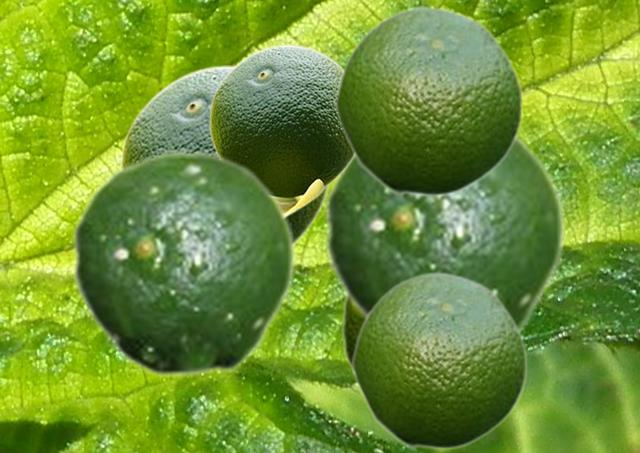calamansi: (71, 149, 296, 378), (323, 134, 566, 335), (120, 65, 327, 245), (333, 4, 523, 196), (350, 270, 527, 449), (209, 44, 353, 217), (340, 294, 362, 376)
